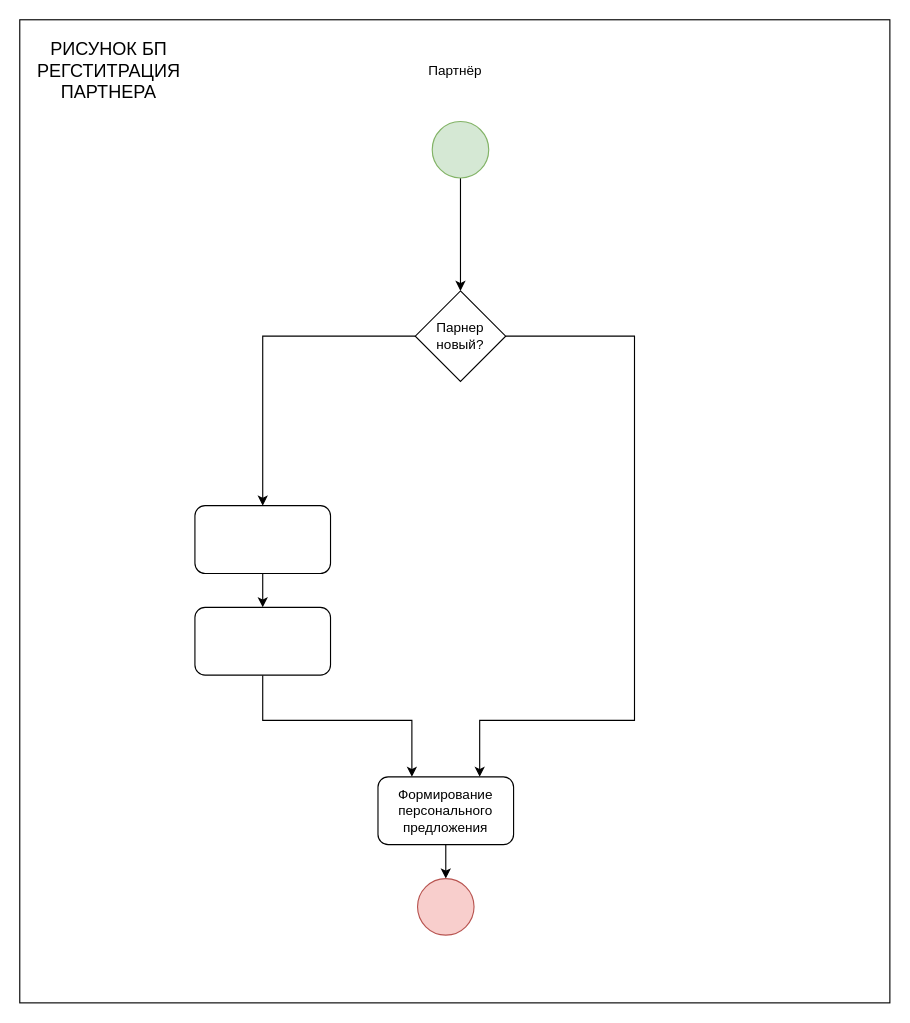
Image size: 910x1023. Some labels were removed from this diagram. Each missing label, with the box of its shape:
Присвоение рейтинга/скидки: (194, 606, 331, 675)
Регистарция партнера: (194, 505, 331, 573)
